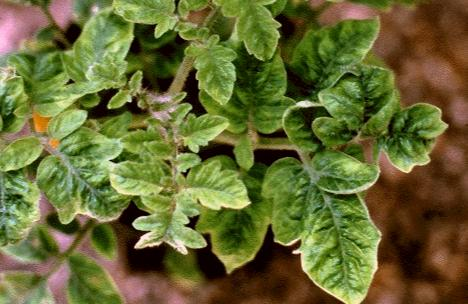Tomato leaf yellow virus: (274, 149, 387, 304), (21, 129, 126, 234), (287, 16, 387, 109), (66, 5, 134, 80), (174, 157, 250, 222), (212, 0, 284, 67), (0, 158, 48, 256), (101, 151, 176, 205), (107, 0, 185, 39)
